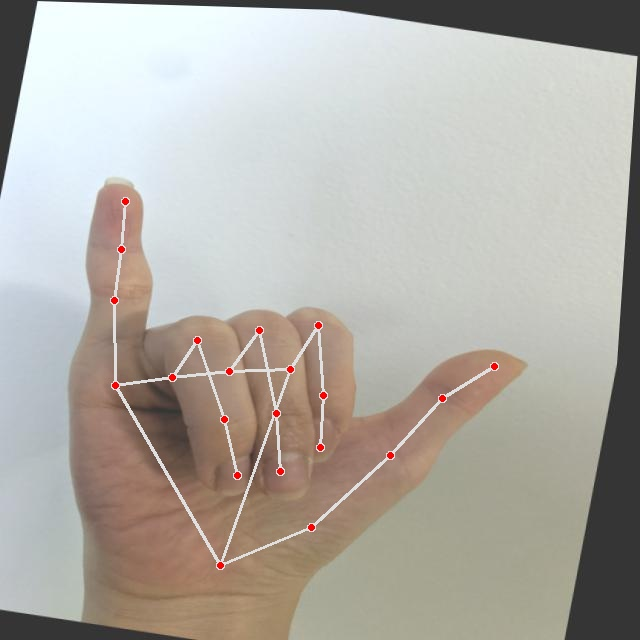Y: (25, 166, 566, 636)
